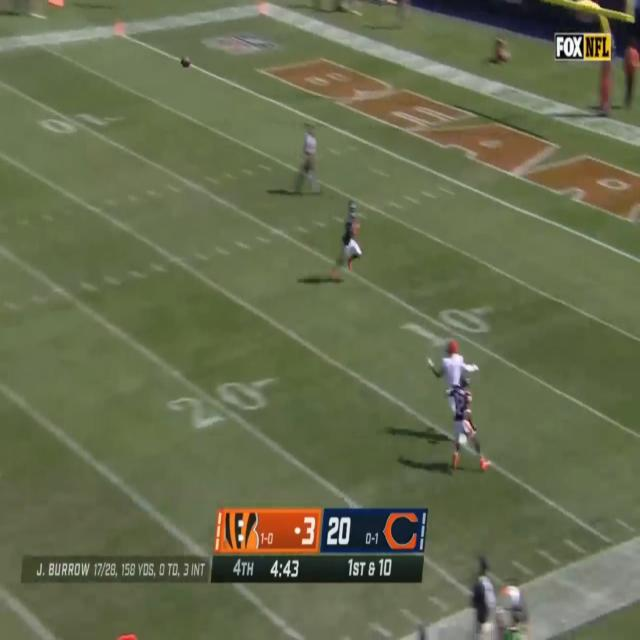Ball: (180, 56, 190, 68)
